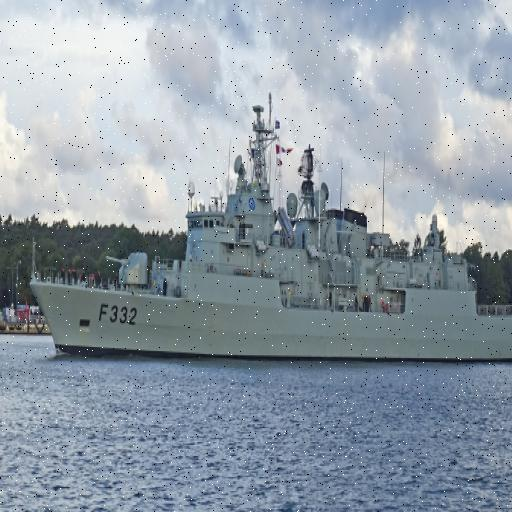Fragata: (28, 91, 512, 366)
